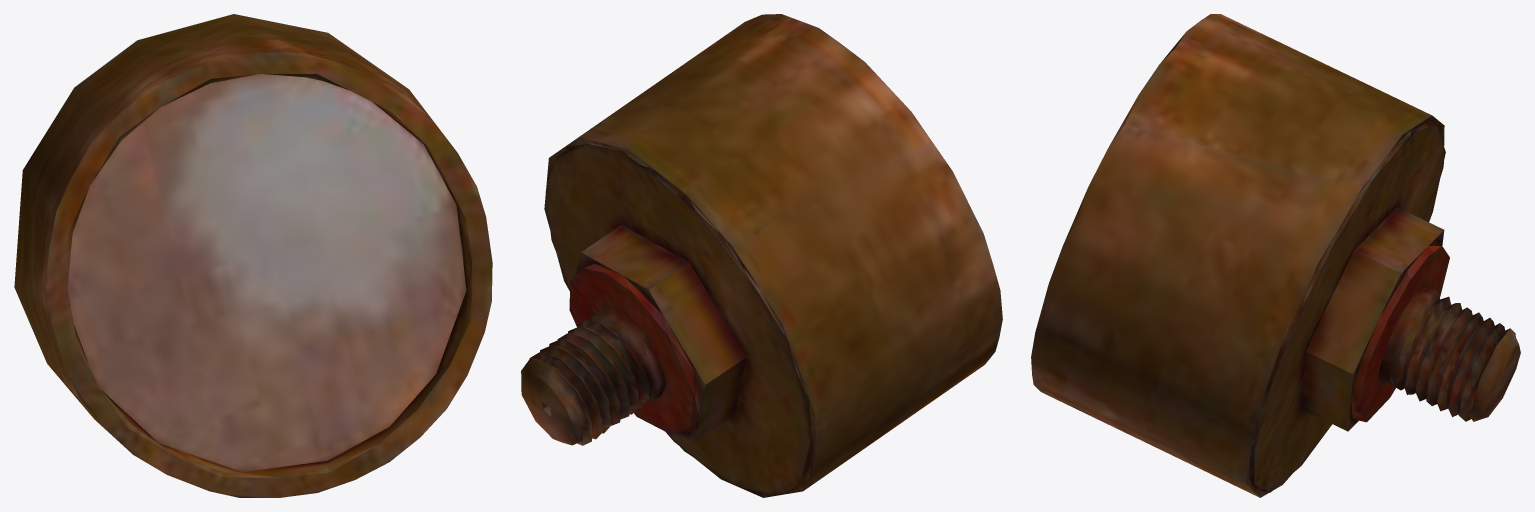
File: pressure_gauge.glb
3 renders of one model, left to right at view 1: azimuth 30°, elevation 25°; view 2: azimuth 150°, elevation 25°; view 3: azimuth 270°, elevation 25°, orthographic. The views are drawn at different scales.
Visible parts, largest first — view 1: pressure_gauge; view 2: pressure_gauge; view 3: pressure_gauge.
Boxes of the visible parts, x1,y1,x2,y2 form: pressure_gauge: [14, 14, 492, 497]; pressure_gauge: [521, 14, 1002, 497]; pressure_gauge: [1031, 14, 1520, 497].
Size of what is drawn, in the model's own units: 0.098 by 0.0968 by 0.1002.
Materials: 1 (1 with a texture image).
